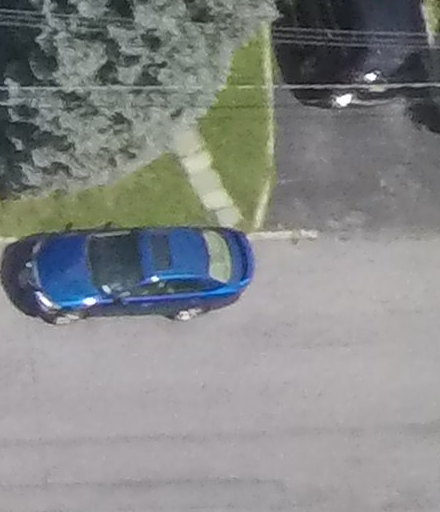car: (1, 211, 262, 333)
